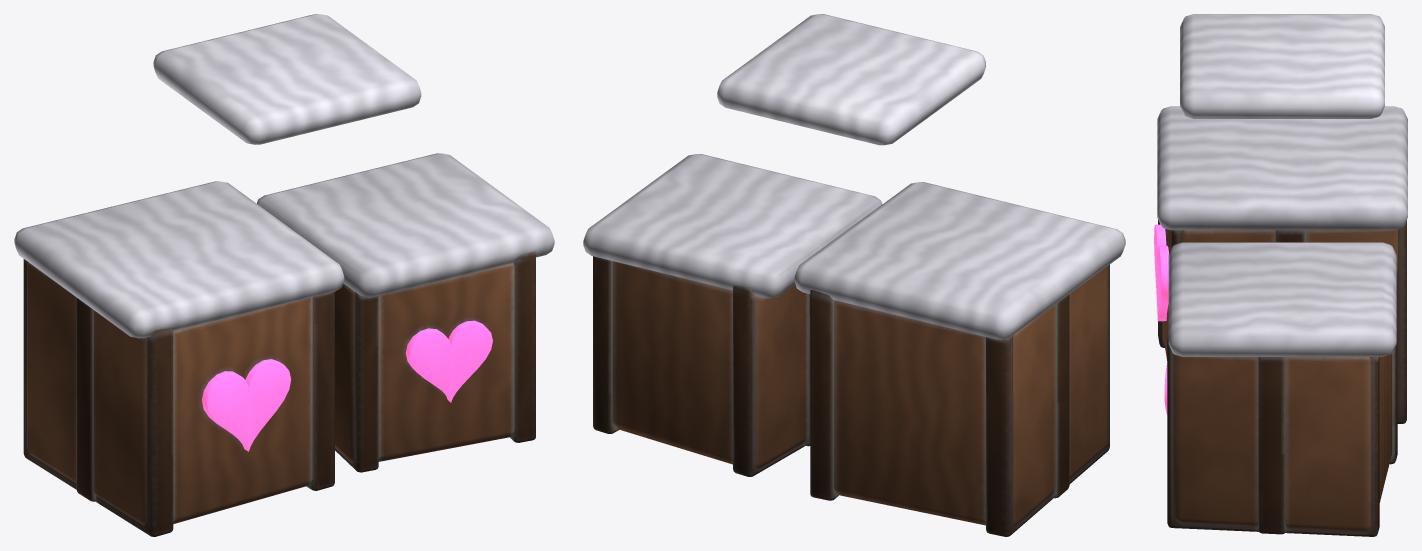
The model's file is sf_obstacle_snowy_crates.glb.
3 views of the same model, side by side, from view 1: azimuth 30°, elevation 25°; view 2: azimuth 150°, elevation 25°; view 3: azimuth 270°, elevation 25° (orthographic).
Parts seen in each view (by area): view 1: sf_obstacle_snowy_crates; view 2: sf_obstacle_snowy_crates; view 3: sf_obstacle_snowy_crates.
Part boxes in pixels (box(x1,y1,x2,y2)): sf_obstacle_snowy_crates: box(14, 14, 554, 536); sf_obstacle_snowy_crates: box(583, 14, 1125, 536); sf_obstacle_snowy_crates: box(1154, 14, 1407, 536).
Size of the model in its own units: 2.2 by 1.86 by 1.11.
Materials: 4 (4 with a texture image).
